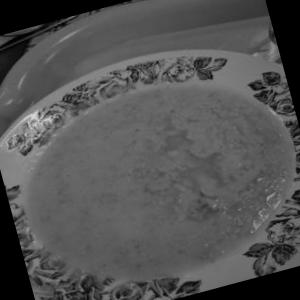porridge: (0, 38, 300, 300)
